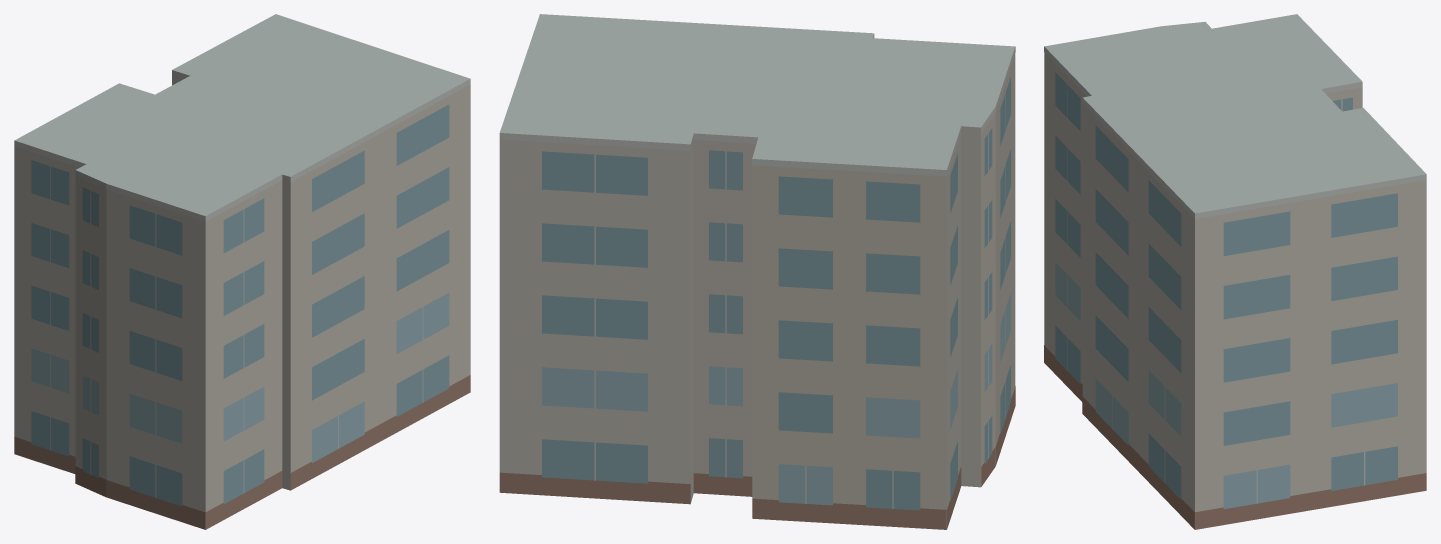
File: survey-upis-32657767.glb
3 views of the same model, side by side, from view 1: azimuth 30°, elevation 25°; view 2: azimuth 150°, elevation 25°; view 3: azimuth 270°, elevation 25° (orthographic). The views are drawn at different scales.
Parts seen in each view (by area): view 1: survey-upis-32657767.tmp; view 2: survey-upis-32657767.tmp; view 3: survey-upis-32657767.tmp.
Boxes of the visible parts, box(x1,y1,x2,y2) form: survey-upis-32657767.tmp: box(14, 14, 470, 529); survey-upis-32657767.tmp: box(499, 14, 1015, 529); survey-upis-32657767.tmp: box(1044, 14, 1426, 529).
Size of the model in its own units: 18.54 by 13.7 by 15.02.
